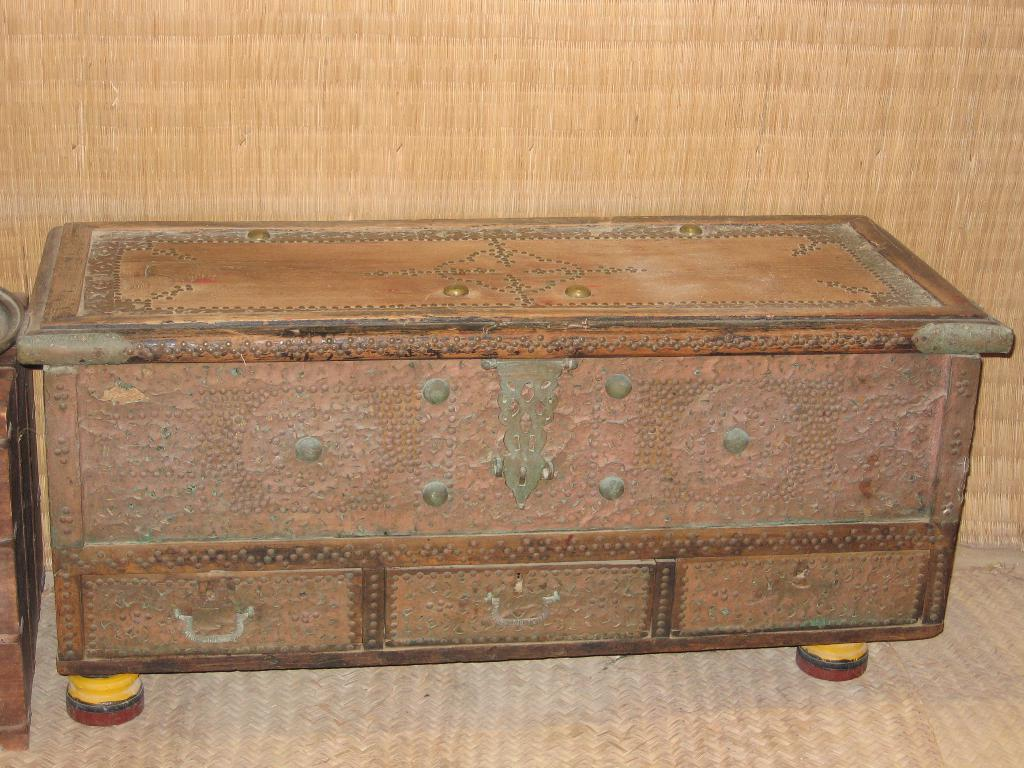cabinet door: (86, 574, 363, 650), (388, 571, 652, 639), (684, 563, 916, 628)
handle: (177, 601, 257, 652), (481, 592, 562, 635)
